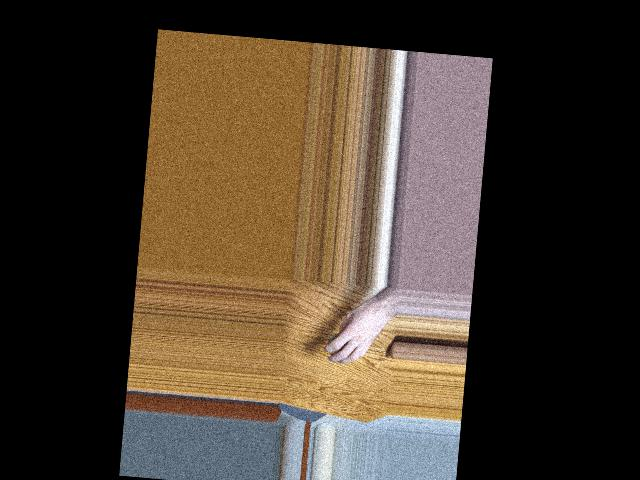onion: (326, 331, 352, 358)
